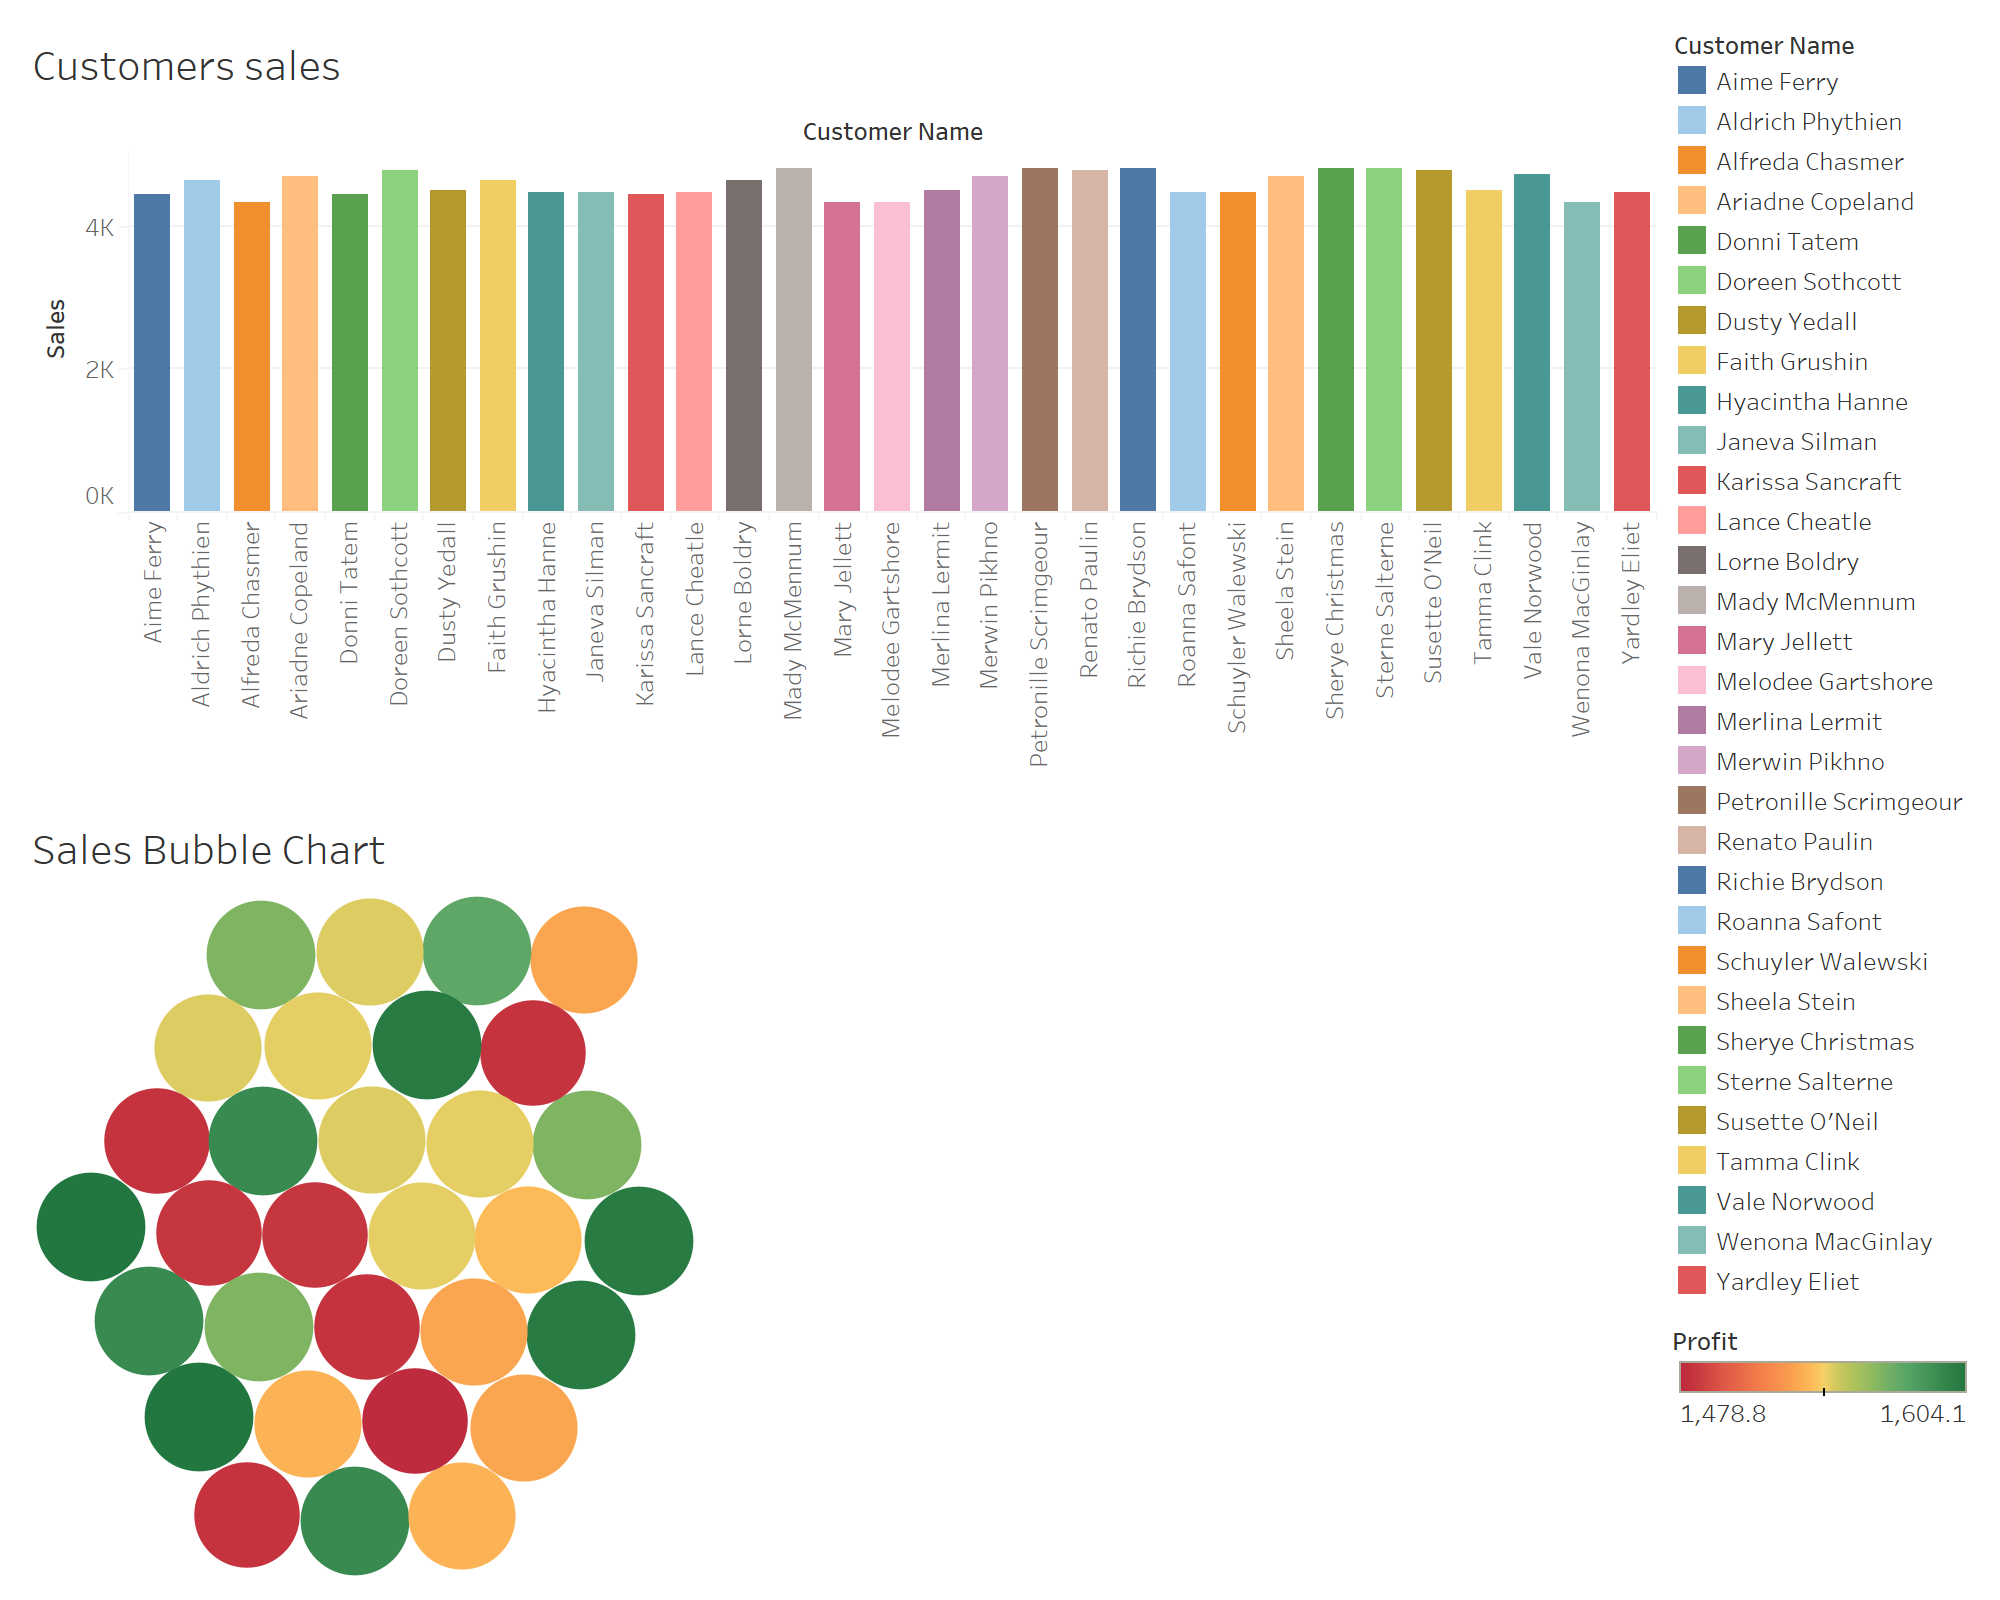

The page's visual inventory and layout, read from the dashboard file:
{"tool":"tableau","page":{"name":"Dashboard 1","canvas":[1000,800],"ordinal":0},"visuals":[{"type":"worksheet","title":"Customers sales","mark":"Automatic","rows":["Sales"],"cols":["Customer Name"],"box":[8,8,824,392]},{"type":"legend","title":"Customers sales","param":"[federated.0dkw3gu0gddsuj11r11ou0xfhirr].[none:Customer Name:nk]","box":[832,8,160,646]},{"type":"worksheet","title":"Sales Bubble Chart","mark":"Circle","box":[8,400,824,392]},{"type":"legend","title":"Sales Bubble Chart","param":"[federated.0dkw3gu0gddsuj11r11ou0xfhirr].[sum:Calculation_1489284120479191040:qk","box":[832,654,160,65]}]}

Visuals, with their boxes in screenshot pixels (x1, y1, x2, y2), scaled from the page's 1000x800 canvas onto the 2000x1600 screenshot:
"Customers sales" worksheet: <box>16,16,1664,800</box>
"Customers sales" legend: <box>1664,16,1984,1308</box>
"Sales Bubble Chart" worksheet (Circle marks): <box>16,800,1664,1584</box>
"Sales Bubble Chart" legend: <box>1664,1308,1984,1438</box>
